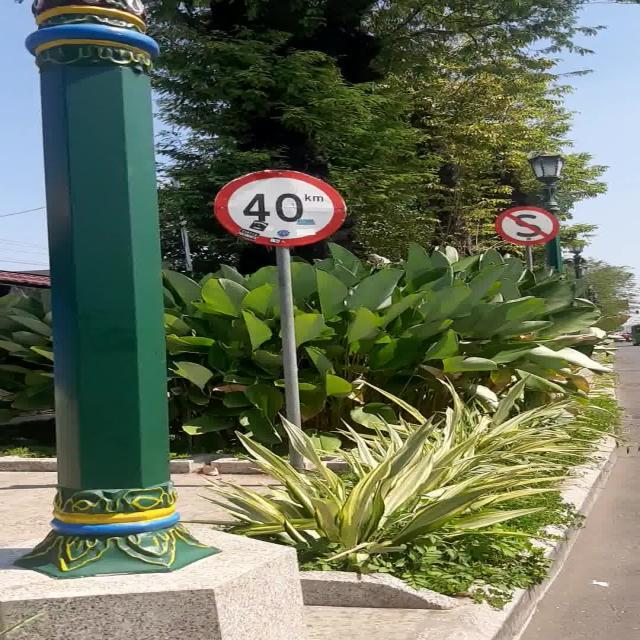Kecepatan Maks. 40 km: (212, 168, 347, 248)
